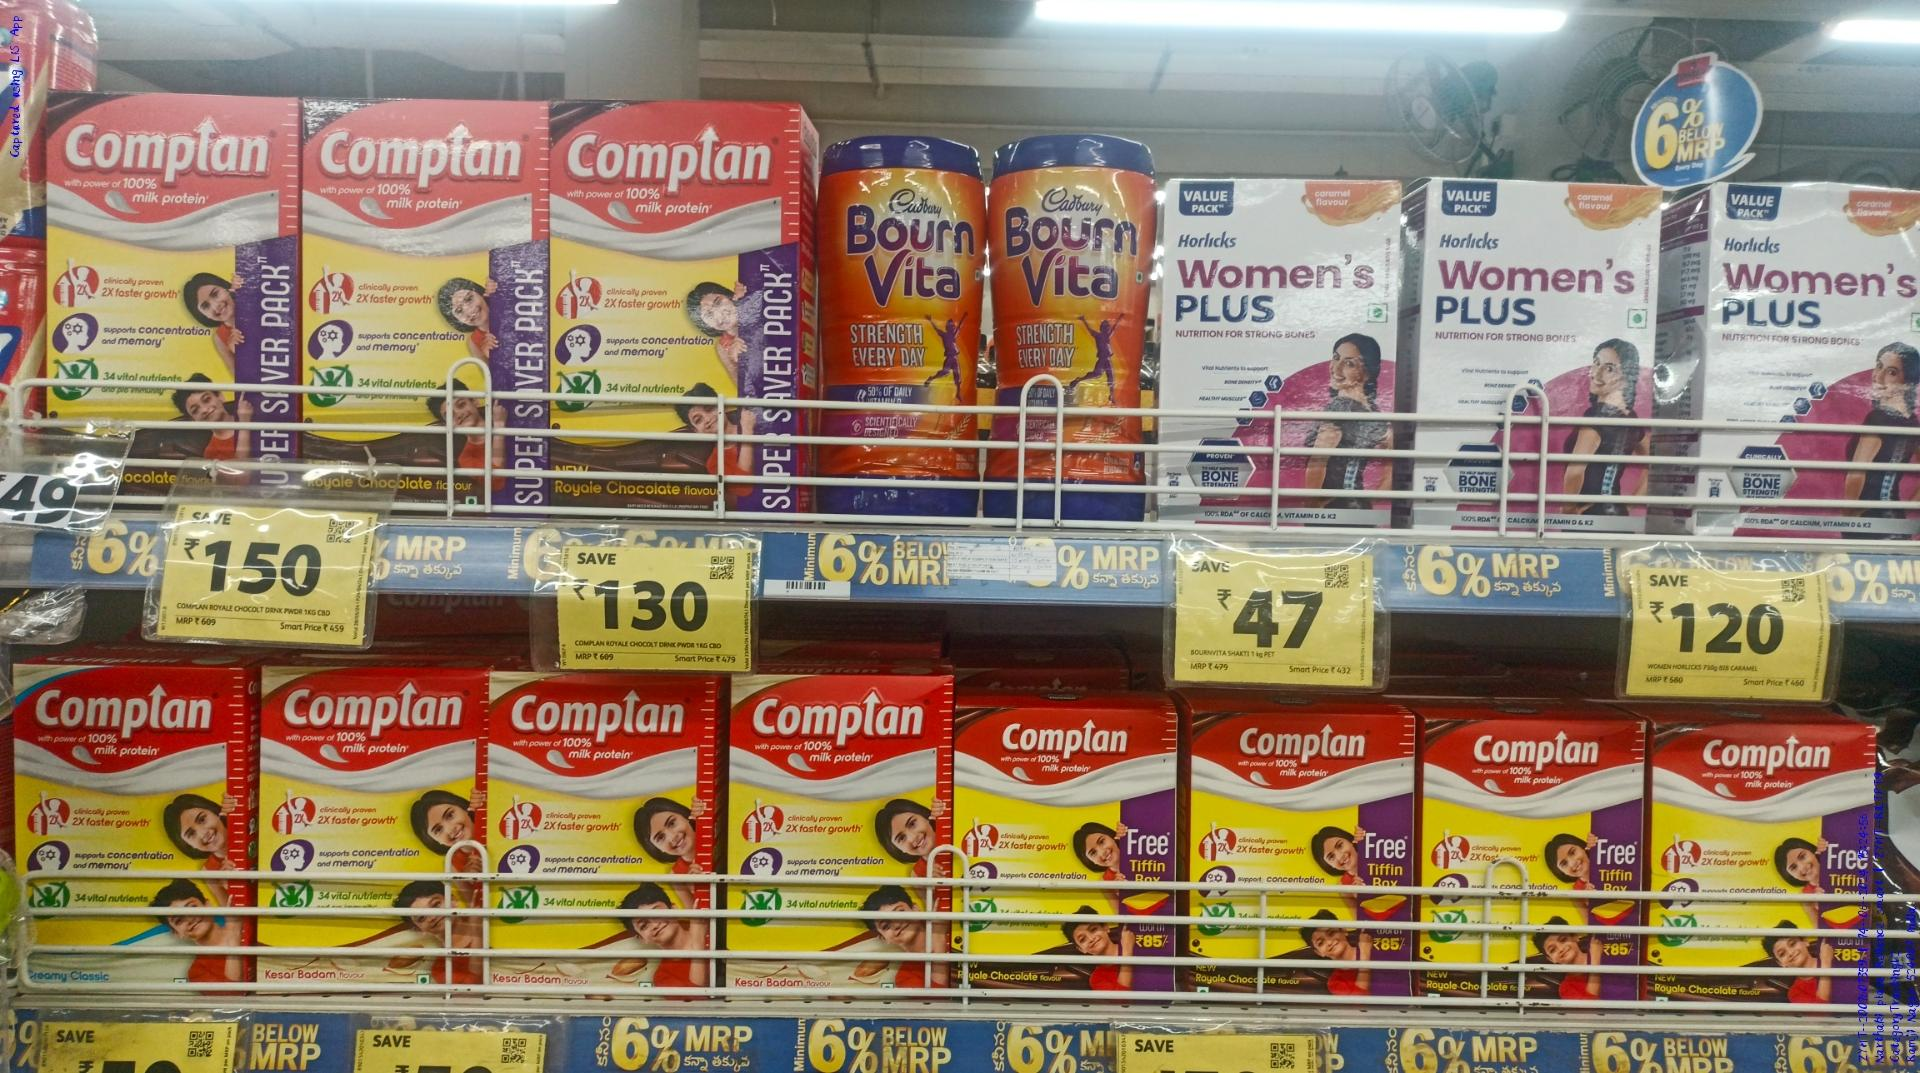BOURN_VITA_1_KG_JAR: (988, 130, 1146, 526), (820, 132, 980, 522)
COMPLAN_CHOCOLATE_1_KG_PACK: (42, 99, 294, 504), (553, 99, 796, 511), (303, 100, 542, 509)
COMPLAN_CHOCOLATE_500_GMS_PACK: (1420, 717, 1642, 1008), (1188, 709, 1414, 995), (955, 707, 1176, 994), (1652, 725, 1870, 1007)
COMPLAN_CREAMY_CLASSIC_500_G_PACK: (15, 662, 247, 991)
COMPLAN_KESAR_BADAM_500_GMS_PACK: (489, 672, 716, 993), (260, 664, 483, 986), (732, 672, 947, 998)
